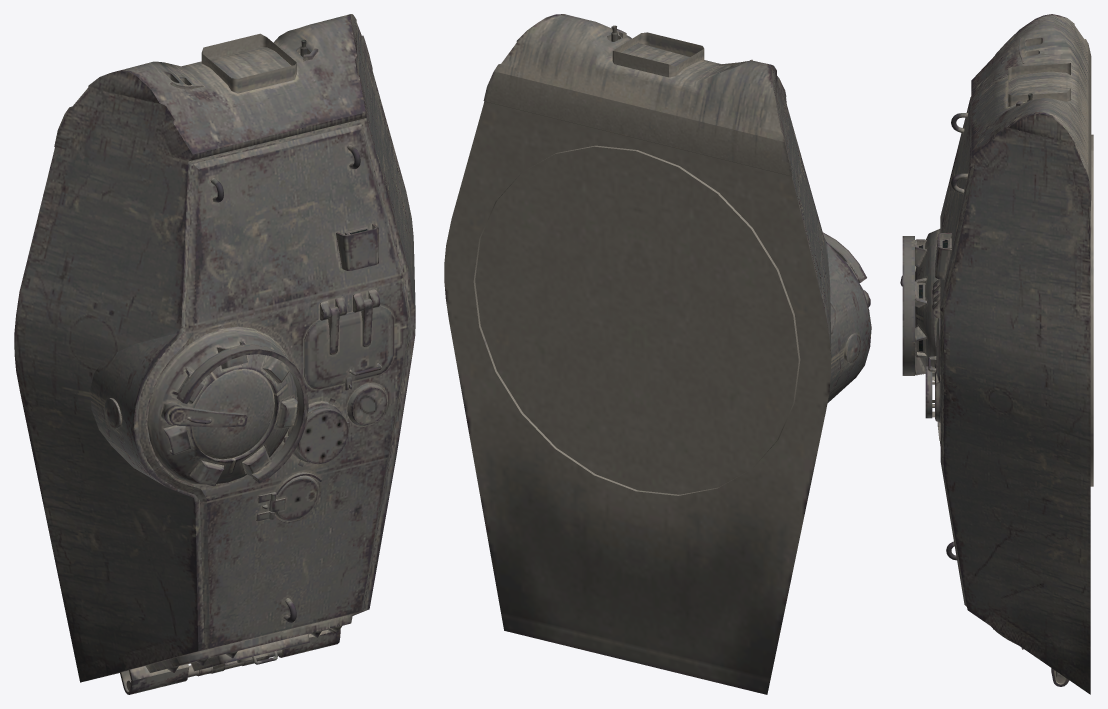
Rendered from Turret_01.glb.
The picture shows the model from 3 angles, left to right: view 1: azimuth 30°, elevation 25°; view 2: azimuth 150°, elevation 25°; view 3: azimuth 270°, elevation 25°; orthographic projection. The views are drawn at different scales.
Visible parts, largest first — view 1: set_0_group_0; view 2: set_0_group_0; view 3: set_0_group_0.
Boxes of the visible parts, x1=… form: set_0_group_0: x1=14, y1=14, x2=415, y2=694; set_0_group_0: x1=444, y1=14, x2=871, y2=694; set_0_group_0: x1=900, y1=14, x2=1093, y2=694.
Size of the model in its own units: 2.45 by 3.7 by 1.13.
1 material, 1 textured.
